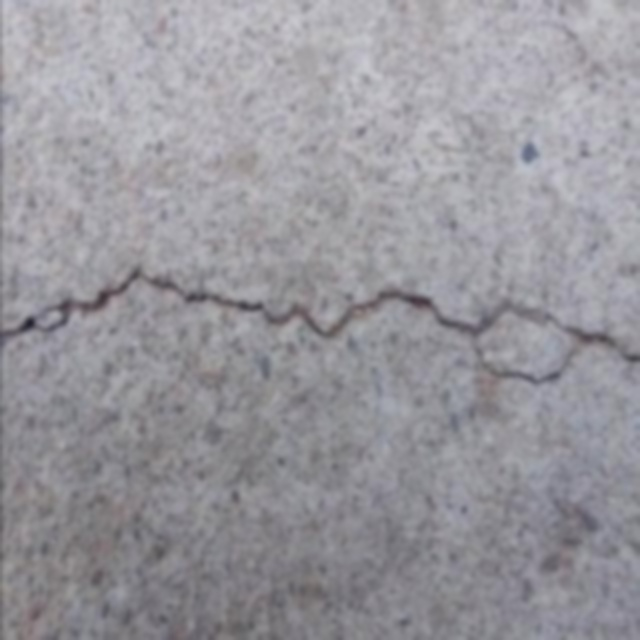SurfaceCrack: (6, 262, 638, 420)
